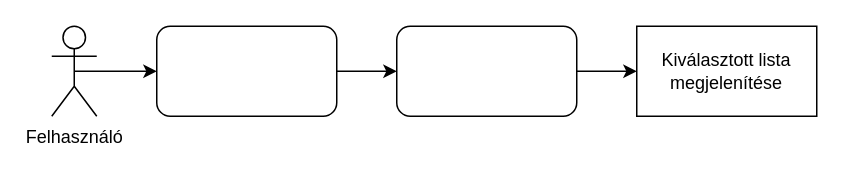
Some shapes in this 843 by 174 pixel diagram are drawn without their labels. Here are the shapes that lost their labels. From the top down, the centre of each, then its label:
At [246,70]: "Listaváltás funkció kiválasztása".
At [486,70]: "Lista kiválasztása".
